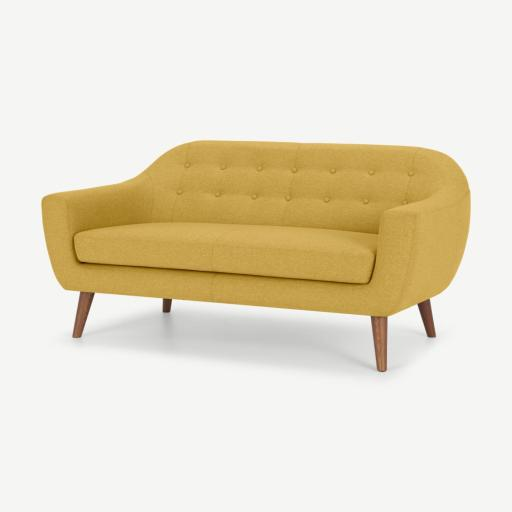back_cushion: (111, 141, 468, 234)
base: (78, 265, 388, 315)
left_arm: (373, 191, 469, 316)
legs: (73, 292, 93, 338), (371, 316, 387, 371), (419, 300, 435, 337), (162, 299, 171, 312)
one-seater: (42, 141, 470, 371)
right_arm: (42, 174, 152, 289)
seat_cushion: (75, 222, 377, 283)
